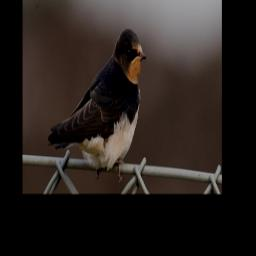Swallow: (47, 26, 147, 182)
